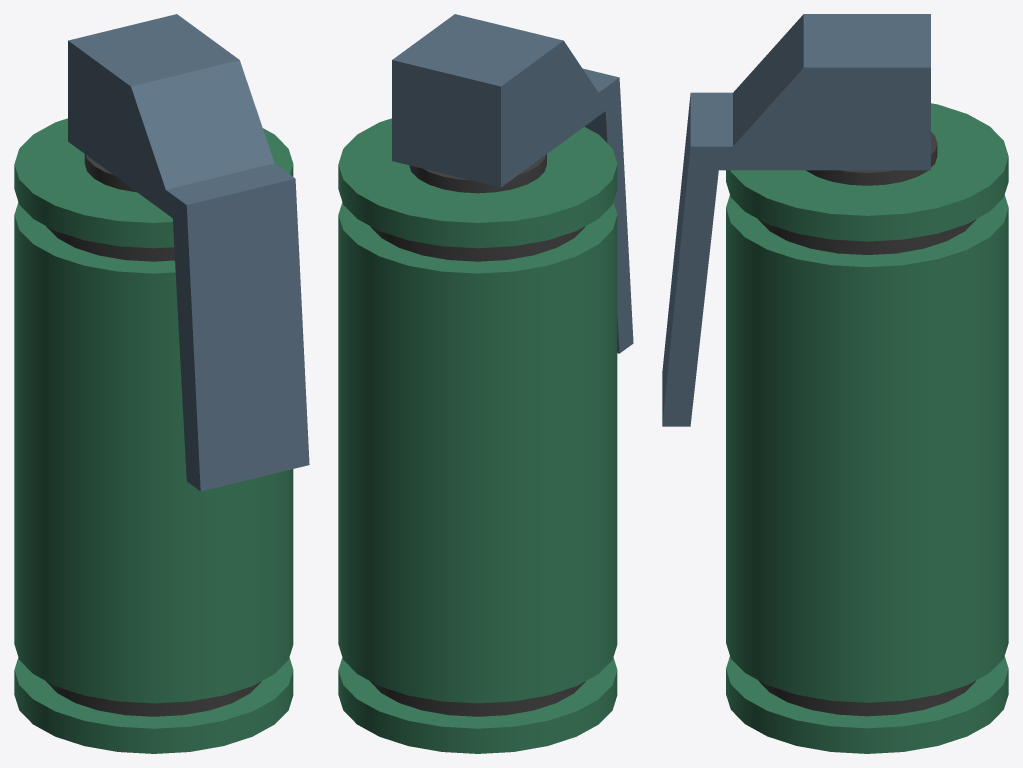
The model's file is grenadeSmoke.obj.
The picture shows the model from 3 angles, left to right: view 1: azimuth 30°, elevation 25°; view 2: azimuth 150°, elevation 25°; view 3: azimuth 270°, elevation 25°; orthographic projection.
Parts seen in each view (by area): view 1: grenadeSmoke, grip; view 2: grenadeSmoke, grip; view 3: grenadeSmoke, grip.
Part boxes in pixels (x1,y1,x2,y2): grenadeSmoke: (14, 118, 293, 753); grip: (68, 14, 309, 491); grenadeSmoke: (338, 118, 617, 753); grip: (392, 14, 633, 353); grenadeSmoke: (726, 103, 1008, 753); grip: (662, 14, 930, 426).
Size of the model in its own units: 0.0766 by 0.1952 by 0.0938.
